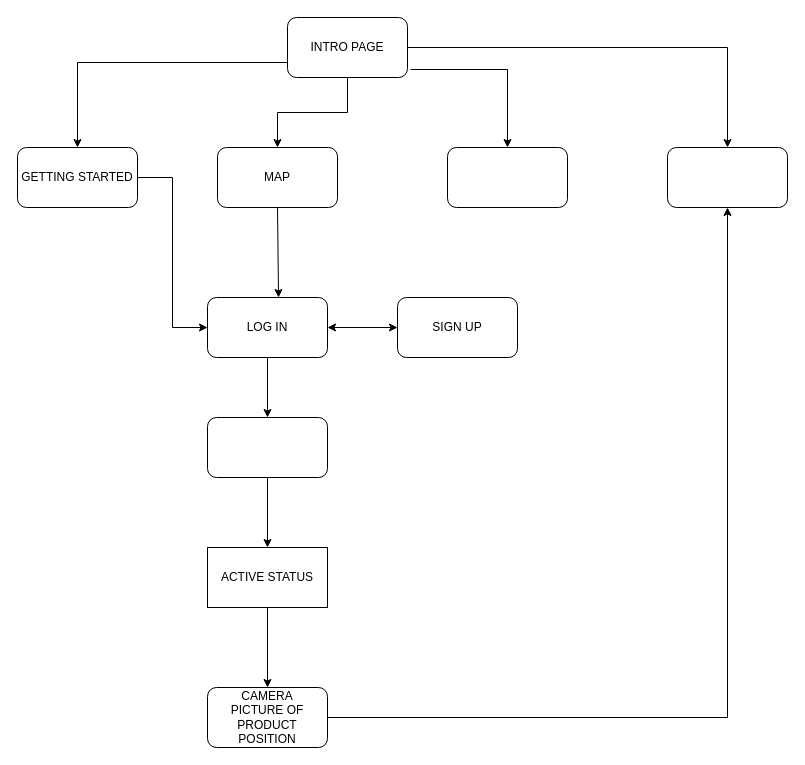
The diagram is 805 pixels wide and 765 high, and some of its shapes have lost their labels. The shapes that lost their labels are listed below. From the top down, each one's centre as x and y in pixels, then its label:
At point 507,177: "FAQ".
At point 727,177: "MY ACCOUNT".
At point 267,447: "CAMERA SCAN QR CODE".
